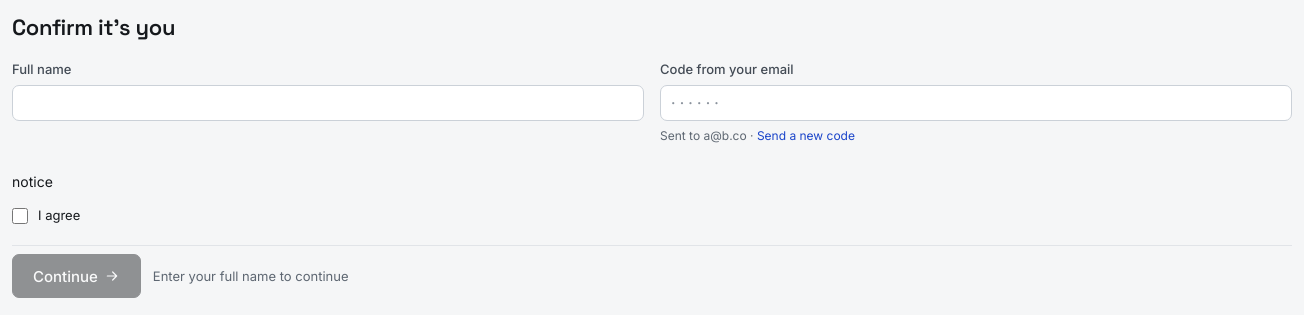
Test: VerifyForm code input › submit is disabled until name, code and consent are set
Expected: the button "Continue" is disabled, [12,254,141,298]
Type "Ada Lovelace" into the field labelled "Full name" at (328, 103), box [12,85,644,121]
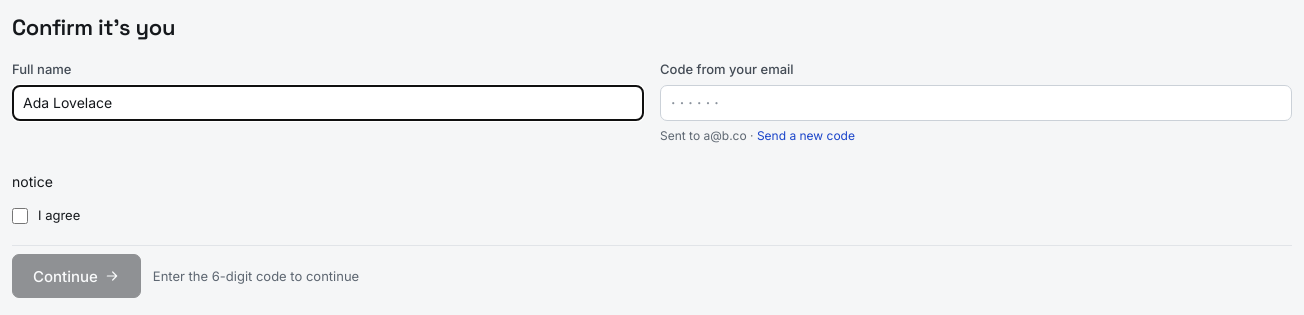
Click the field labelled "Code from your email" at (976, 103), box [660,85,1292,121]
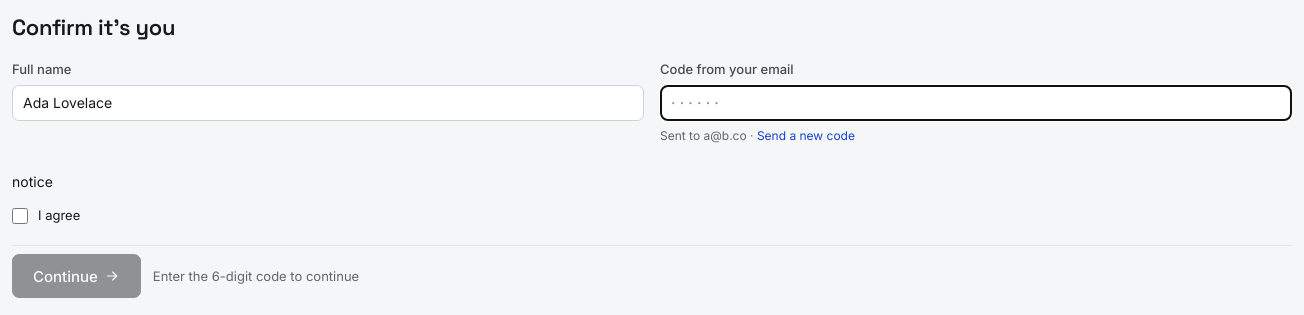
Type keys "123 456"
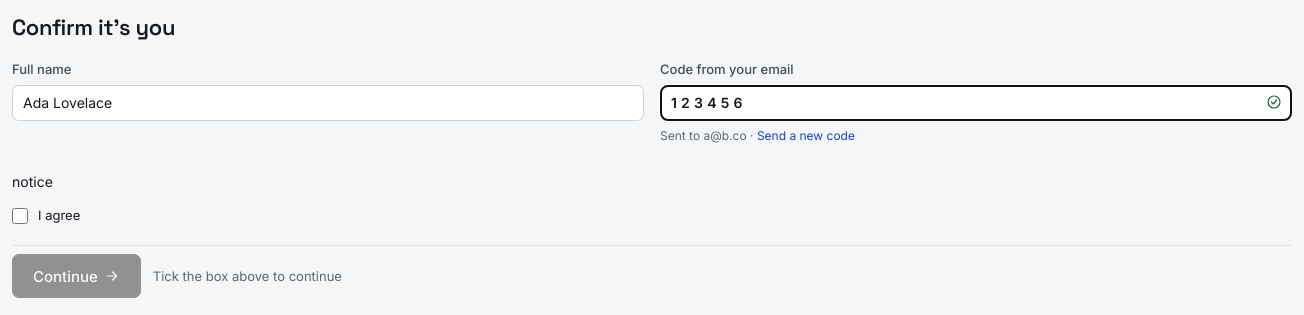
Expected: the button "Continue" is disabled, [12,254,141,298]
Click the checkbox at (20, 216), box [12,208,28,224]
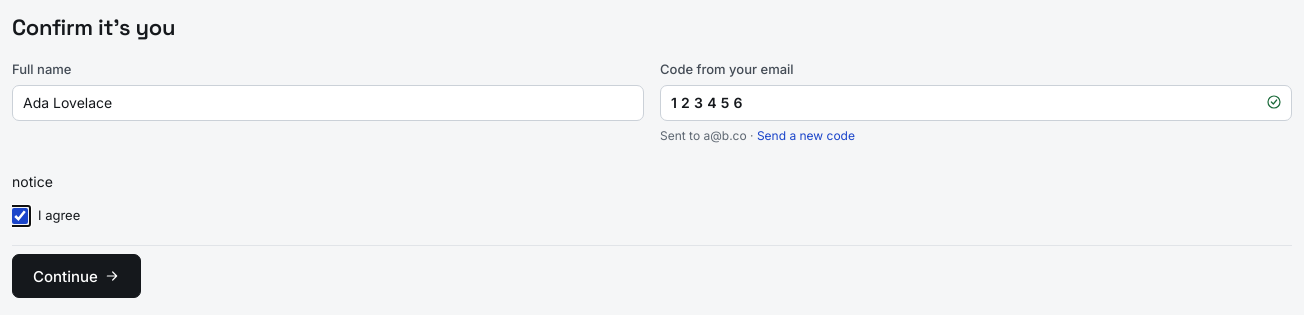
Expected: the button "Continue" is enabled, [12,254,141,298]
